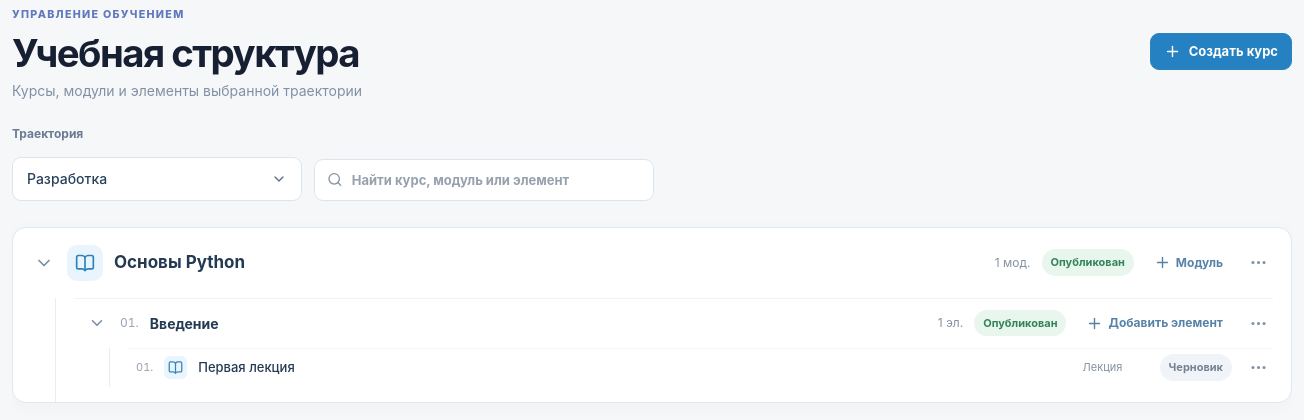
Test: curriculum explorer › switches the visible course list with the selected track
Expected: the link "Основы Python" is shown, 114,252 -> 245,272
Select "Дизайн" in the dropdown named "Траектория обучения". click: [157, 178]
box: 12,156 -> 302,200
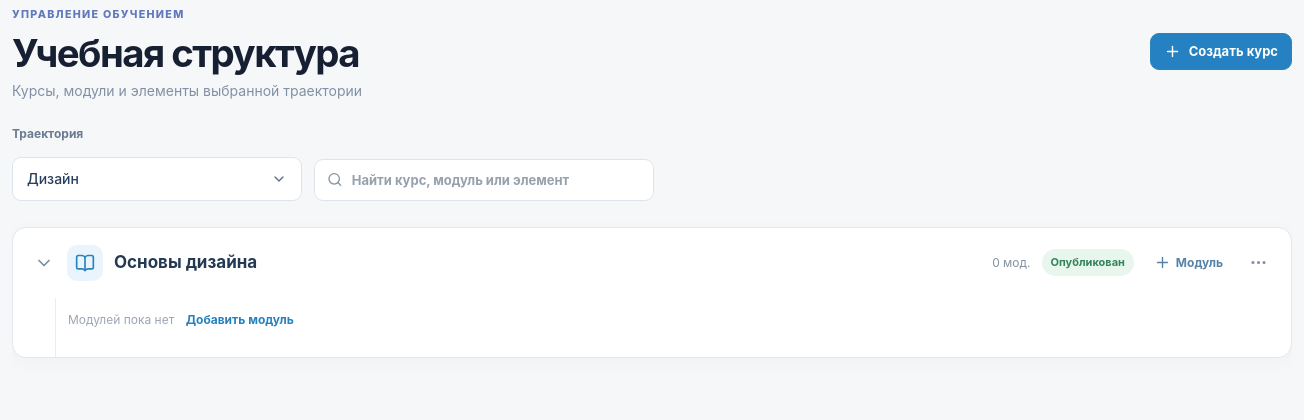
Expected: the link "Основы дизайна" is shown, 114,252 -> 257,272
Expected: the link "Основы Python" is gone
